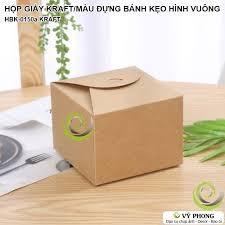box: (50, 65, 184, 186)
